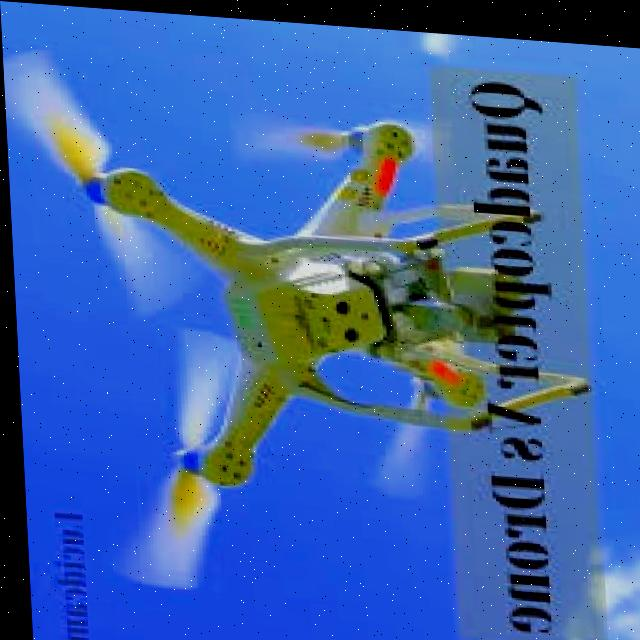drone: (2, 40, 601, 610)
